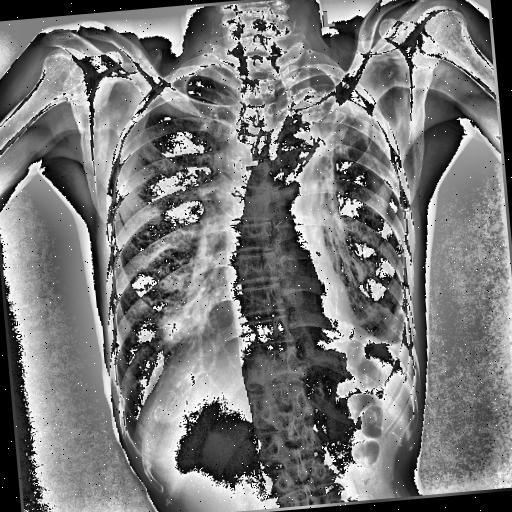1- Atelectasis: (296, 72, 402, 229), (284, 92, 394, 166), (286, 54, 378, 114)
10- Pleural effusion: (356, 300, 412, 364), (371, 314, 413, 356), (392, 325, 416, 359)
11- Pleural thickening: (278, 61, 372, 114), (356, 300, 412, 364), (371, 314, 413, 356), (392, 325, 416, 359)
13- Pulmonary fibrosis: (296, 72, 402, 229), (284, 92, 394, 166), (154, 286, 212, 348), (314, 116, 380, 160)
4- Consolidation: (154, 286, 212, 348), (160, 294, 210, 344)
6- Infiltration: (154, 286, 212, 348), (314, 116, 380, 160)
9- Other lesion: (210, 154, 290, 366), (160, 308, 196, 346)
